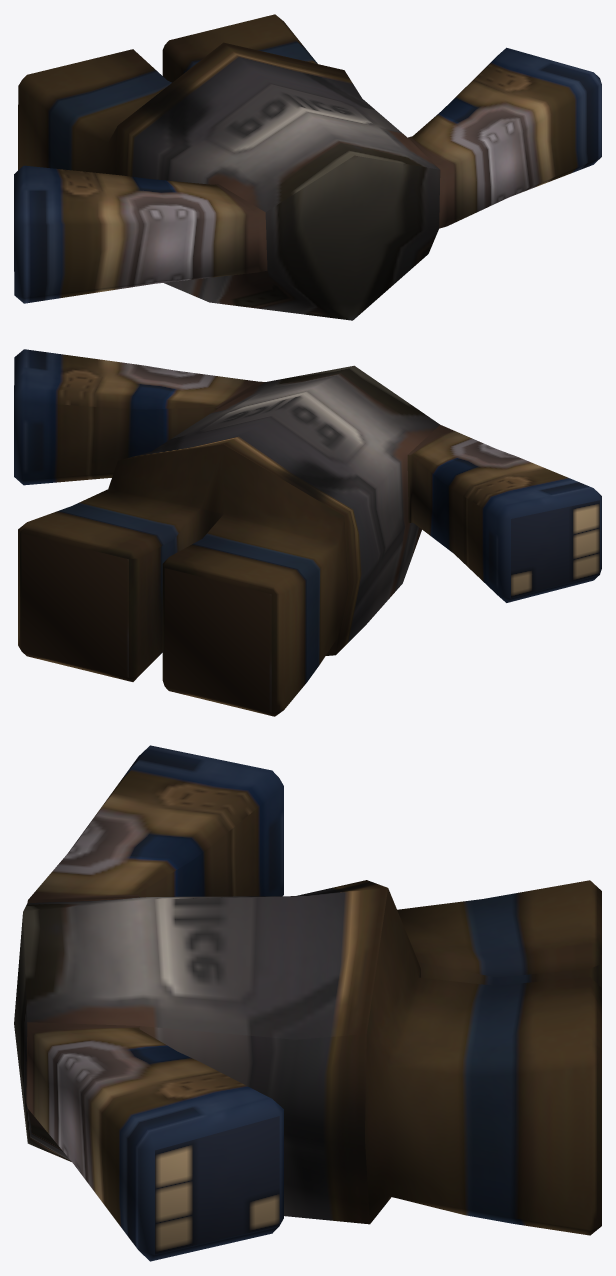
File: Avatar_Swat_H_01_Body_0_f78502bc__Avatar_Swat_B_4de0d91a_c1f257.obj
3 views of the same model, one above another, from view 1: azimuth 30°, elevation 25°; view 2: azimuth 150°, elevation 25°; view 3: azimuth 270°, elevation 25° (orthographic). The views are drawn at different scales.
Size of the model in its own units: 1.41 by 0.504 by 0.882.
Materials: 1 (1 with a texture image).
